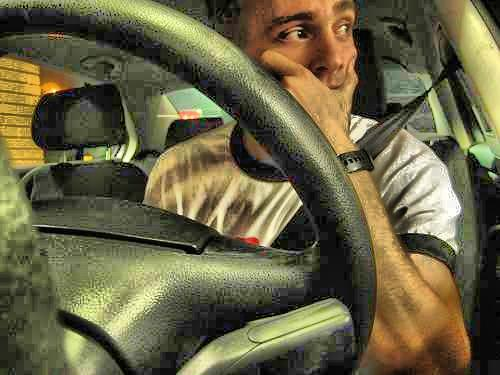seatbelt: (269, 55, 467, 252)
